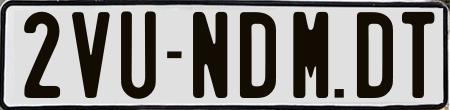2: (21, 11, 60, 99)
D: (239, 11, 276, 99), (357, 9, 394, 97)
M: (292, 11, 331, 97)
N: (190, 9, 228, 96)
T: (400, 11, 436, 97)
U: (119, 8, 155, 97)
V: (70, 9, 108, 95)
